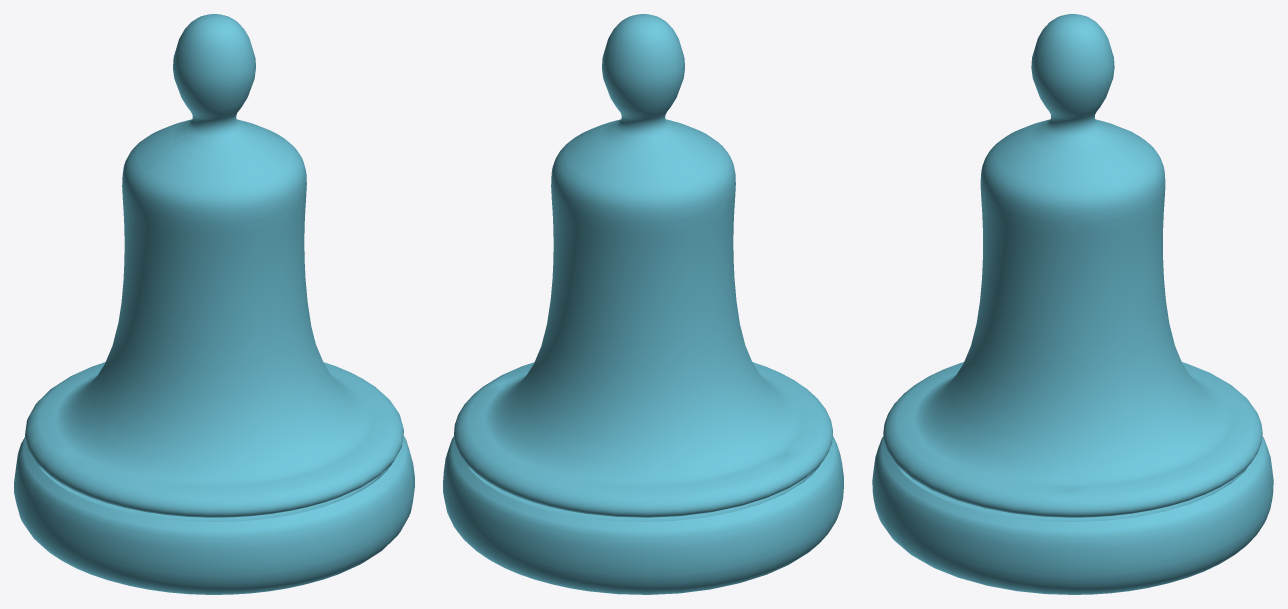
Rendered from meditationBoi v2.fbx.
The picture shows the model from 3 angles, left to right: view 1: azimuth 30°, elevation 25°; view 2: azimuth 150°, elevation 25°; view 3: azimuth 270°, elevation 25°; orthographic projection.
Visible parts, largest first — view 1: Body1; view 2: Body1; view 3: Body1.
Part boxes in pixels (<box>): Body1: <box>14,14,414,594</box>; Body1: <box>443,14,843,594</box>; Body1: <box>872,14,1273,594</box>.
Bounding box in the file's own units: 873 × 1229 × 872.
